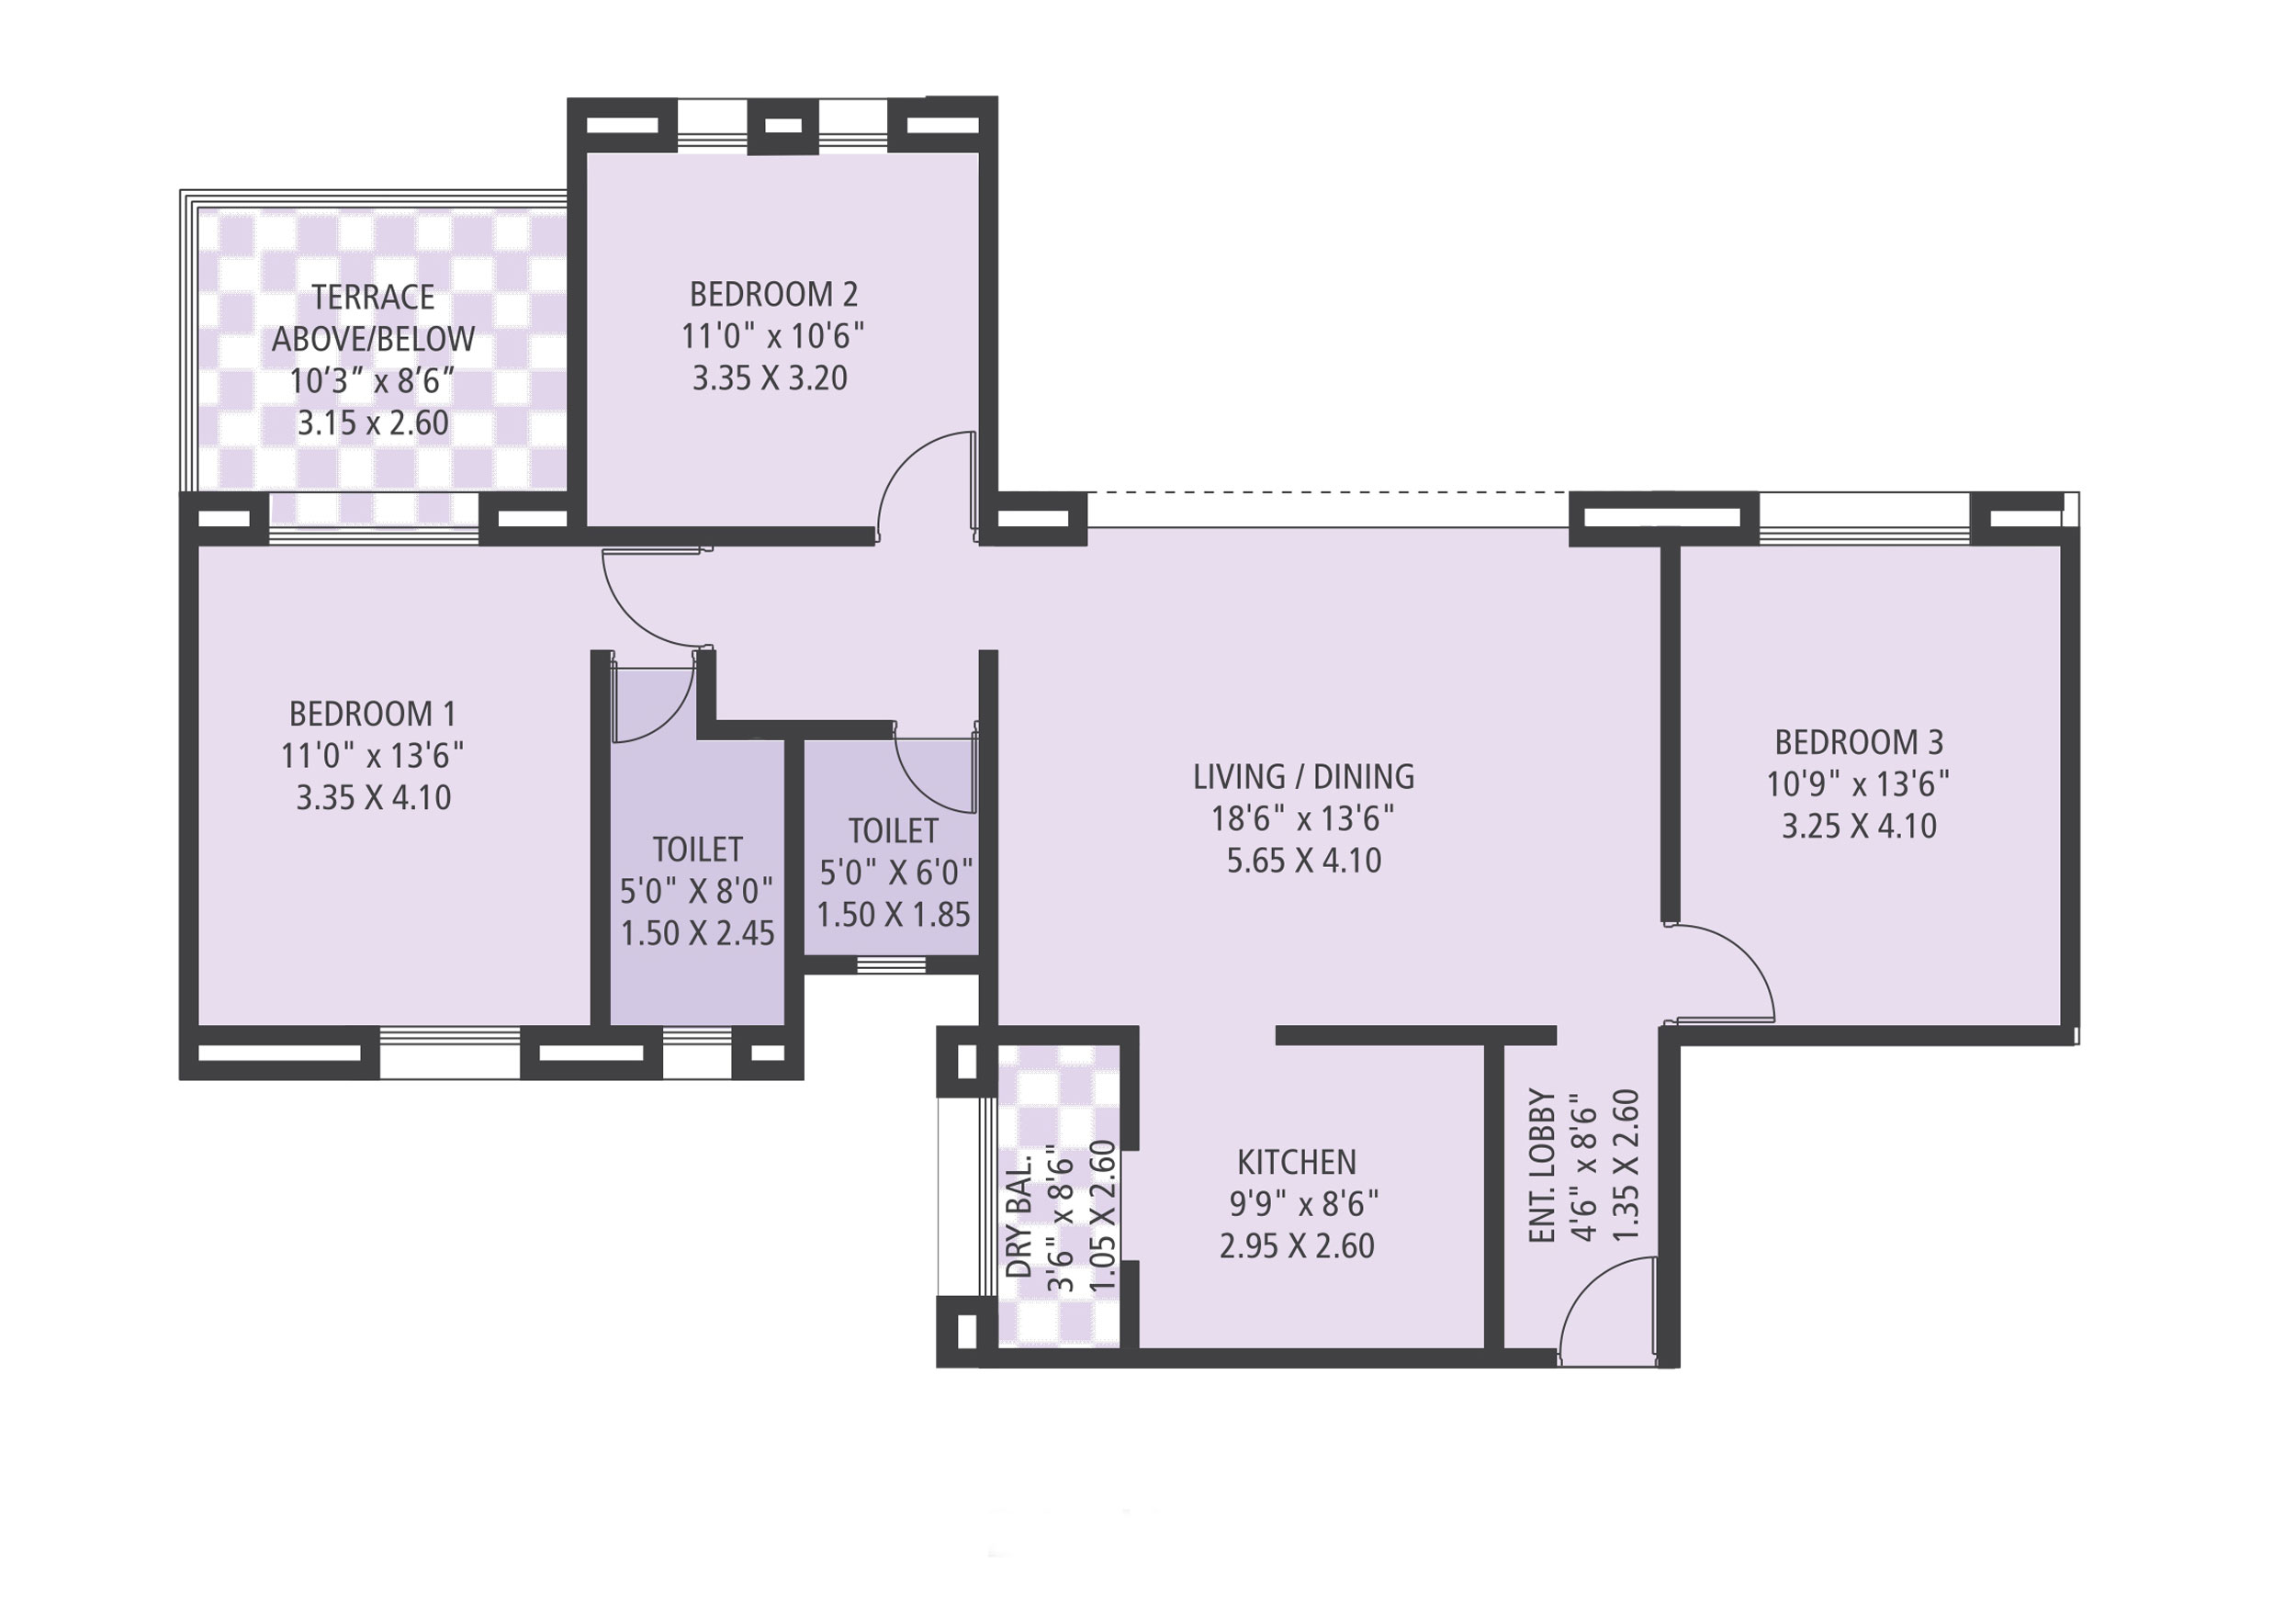door: (1684, 923, 1781, 1023), (1558, 1250, 1656, 1347), (595, 548, 689, 646), (872, 426, 975, 515), (614, 670, 693, 749), (895, 740, 979, 813)
